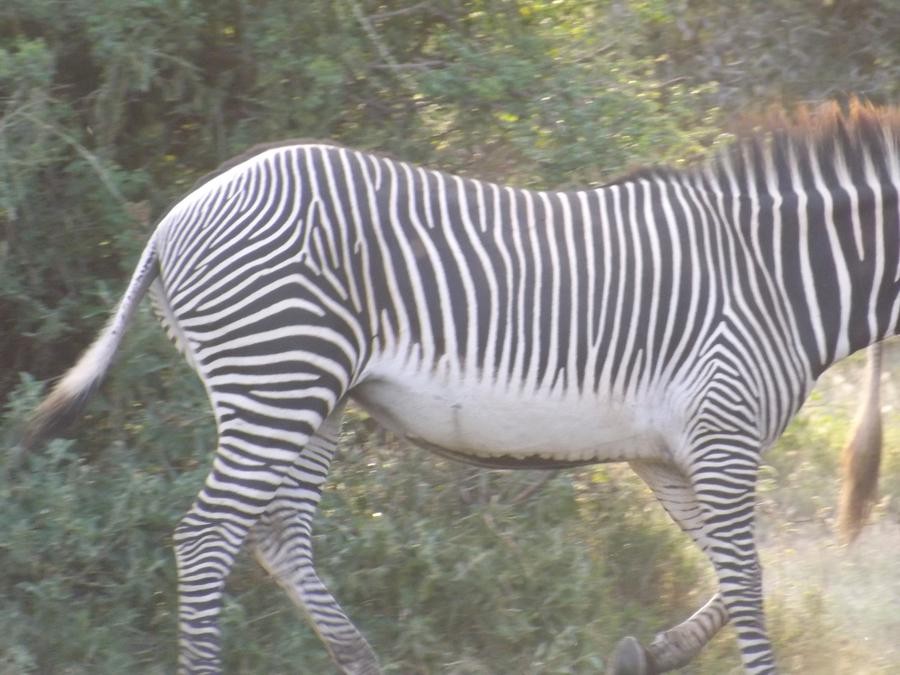zebra_grevys: (137, 104, 776, 458)
